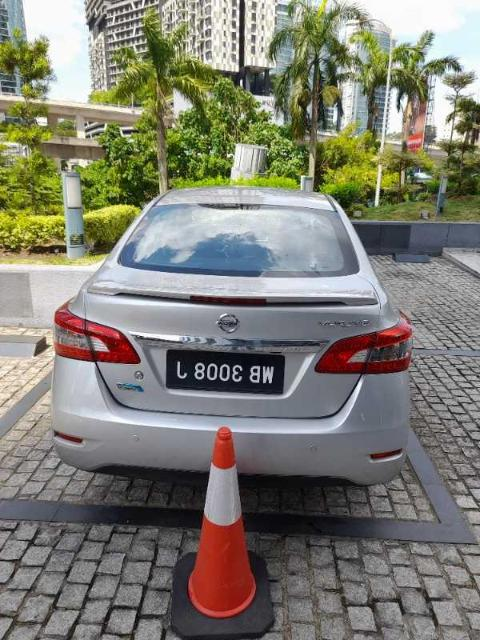License_Plate: (166, 349, 287, 395)
car: (52, 186, 415, 487)
